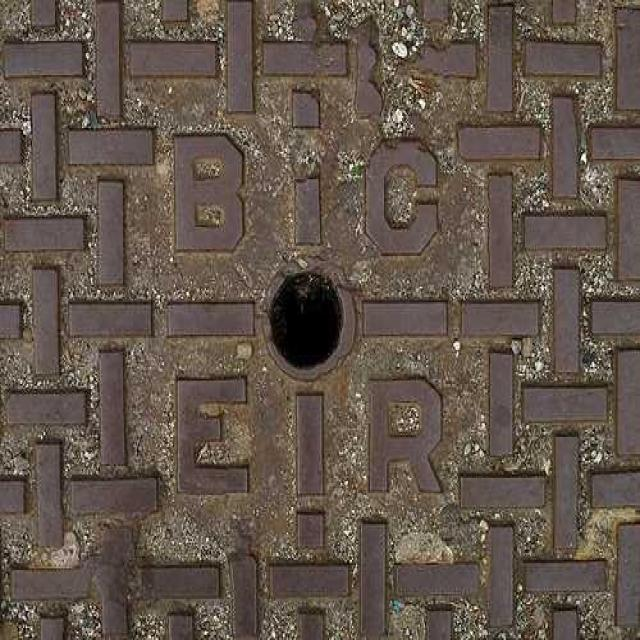manhole: (0, 0, 640, 638)
